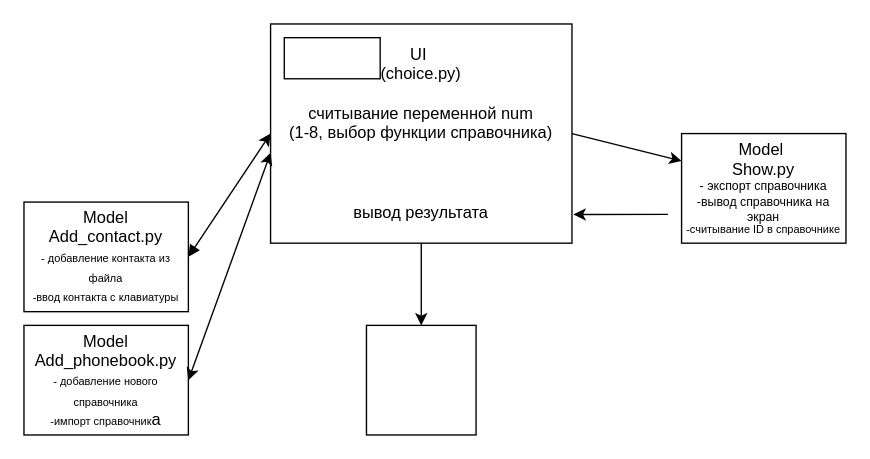
Some shapes in this 870 by 459 pixel diagram are drawn without their labels. The centre of each missing label's shape, as x and y in pixels:
"Валидация ввода (num)" goes at (x=331, y=57).
"Точка входа. (main.py)" goes at (x=420, y=379).
